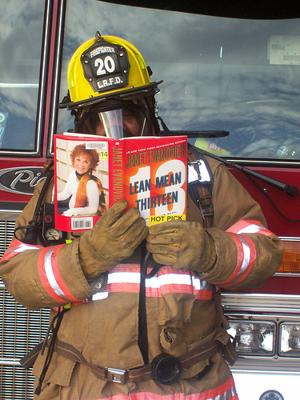person: (2, 35, 283, 400)
